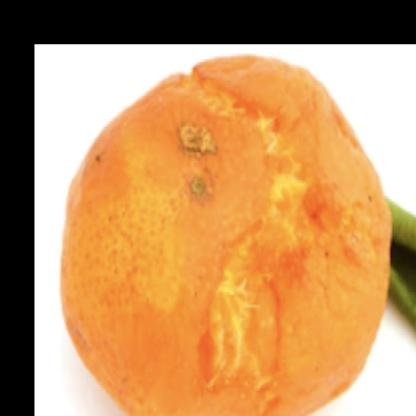rotten: (63, 54, 392, 416)
